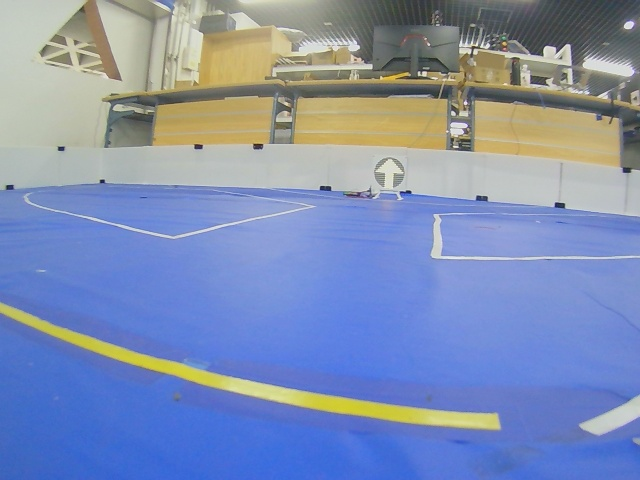straight_yellow: (372, 155, 407, 190)
